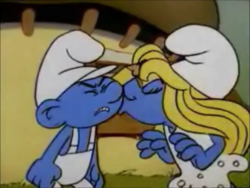smurf: (123, 21, 248, 187), (19, 27, 124, 188)
